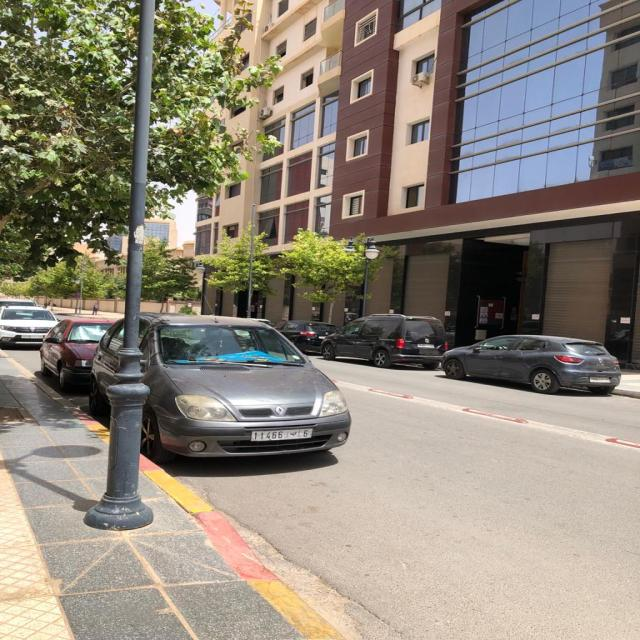Car: (141, 315, 351, 462), (442, 336, 621, 395), (321, 315, 448, 369), (39, 316, 112, 390), (88, 321, 122, 415), (0, 305, 58, 346)
Electric pole: (82, 0, 154, 531)
